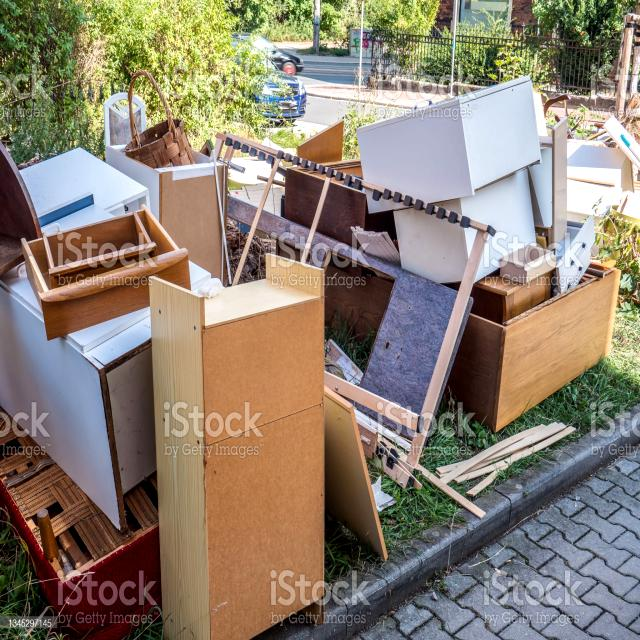Cardboard: (147, 258, 328, 640), (444, 255, 622, 437), (18, 199, 198, 348)
Garbage: (0, 80, 639, 637)
